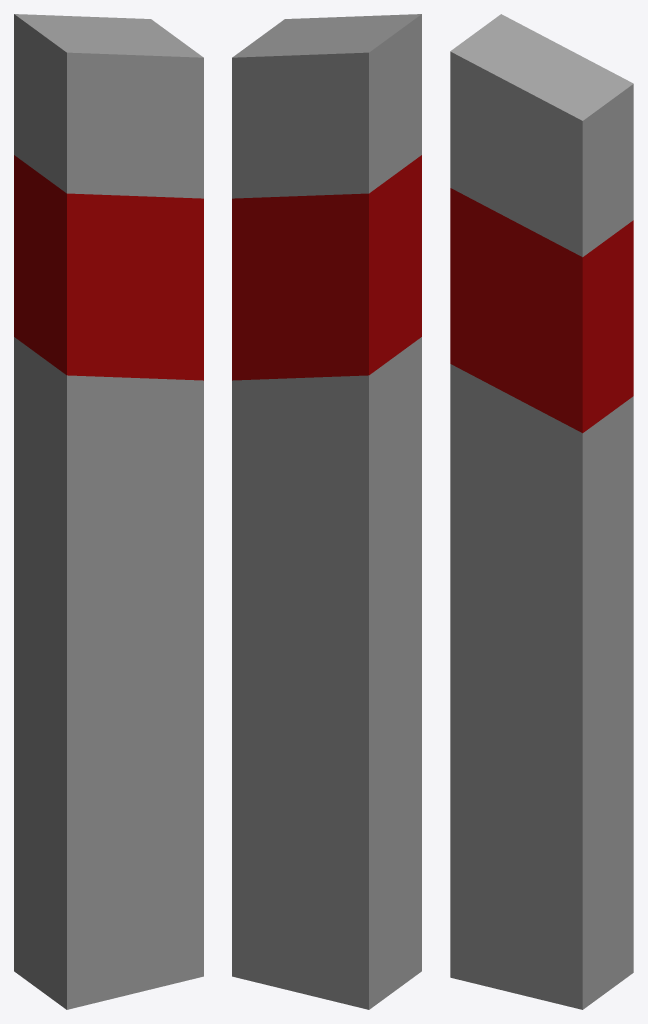
Rendered from milestone.obj.
The picture shows the model from 3 angles, left to right: view 1: azimuth 30°, elevation 25°; view 2: azimuth 150°, elevation 25°; view 3: azimuth 330°, elevation 25°; orthographic projection. The views are drawn at different scales.
Visible parts, largest first — view 1: milstone_Cube.001, milstone_red_Cube.003; view 2: milstone_Cube.001, milstone_red_Cube.003; view 3: milstone_Cube.001, milstone_red_Cube.003.
Boxes of the visible parts, <box> form: milstone_Cube.001: <box>14,14,203,1009</box>; milstone_red_Cube.003: <box>14,155,203,380</box>; milstone_Cube.001: <box>232,14,421,1009</box>; milstone_red_Cube.003: <box>232,155,421,380</box>; milstone_Cube.001: <box>450,14,633,1009</box>; milstone_red_Cube.003: <box>450,188,633,433</box>.
Bounding box in the file's own units: 0.3 × 2 × 0.2.
